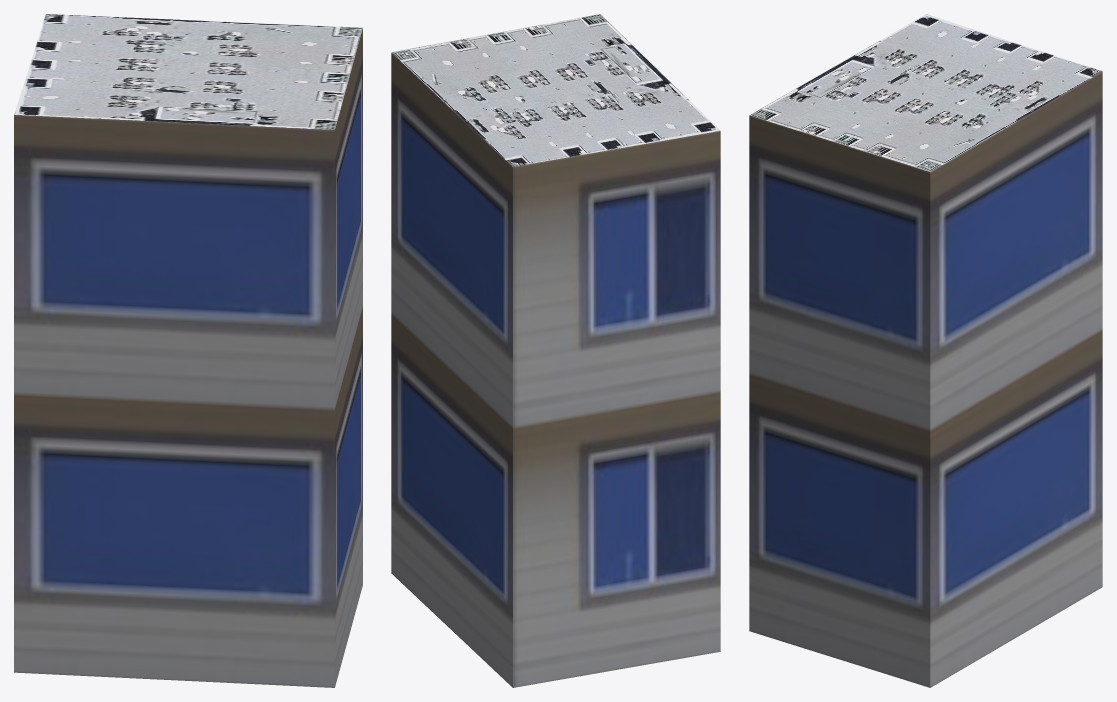
The model's file is ResTex__1375.fbx.
3 renders of one model, left to right at view 1: azimuth 30°, elevation 25°; view 2: azimuth 150°, elevation 25°; view 3: azimuth 270°, elevation 25°, orthographic. The views are drawn at different scales.
Visible parts, largest first — view 1: CityEngineMaterial_23_m, CityEngineMaterial_4_m; view 2: CityEngineMaterial_23_m, CityEngineMaterial_4_m; view 3: CityEngineMaterial_23_m, CityEngineMaterial_4_m.
Boxes of the visible parts, x1,y1,x2,y2 form: CityEngineMaterial_23_m: [14, 28, 362, 687]; CityEngineMaterial_4_m: [14, 14, 362, 129]; CityEngineMaterial_23_m: [391, 53, 720, 687]; CityEngineMaterial_4_m: [391, 14, 720, 166]; CityEngineMaterial_23_m: [749, 71, 1102, 687]; CityEngineMaterial_4_m: [749, 14, 1102, 171].
Bounding box in the file's own units: 3.95 × 6 × 3.73.
2 materials, 2 textured.
